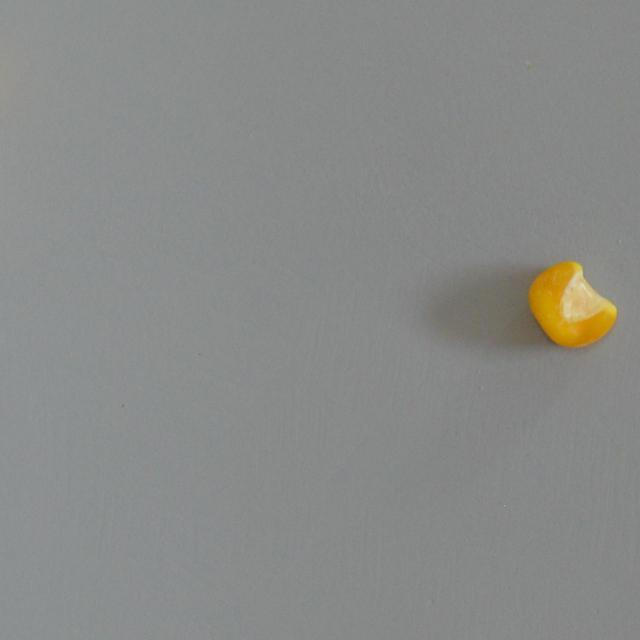no_desgerminado: (518, 256, 628, 354)
